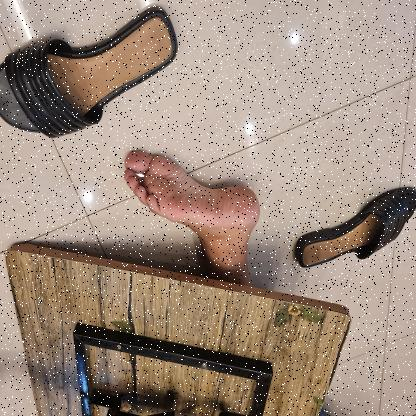leg: (119, 138, 266, 290)
